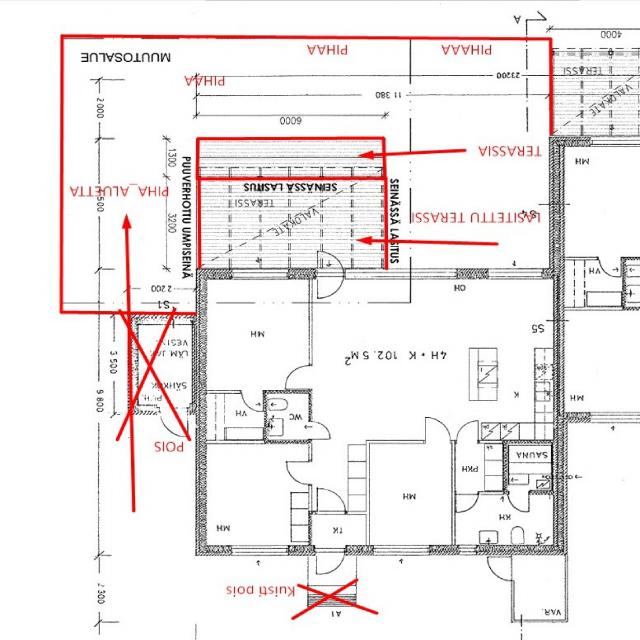door: (316, 545, 344, 582), (317, 244, 343, 280), (317, 269, 343, 304), (317, 485, 345, 514), (486, 557, 514, 580), (285, 366, 312, 389), (426, 418, 450, 443), (285, 462, 312, 484), (456, 492, 478, 516), (241, 391, 263, 414), (457, 421, 478, 443), (508, 492, 529, 514), (309, 421, 331, 439)
